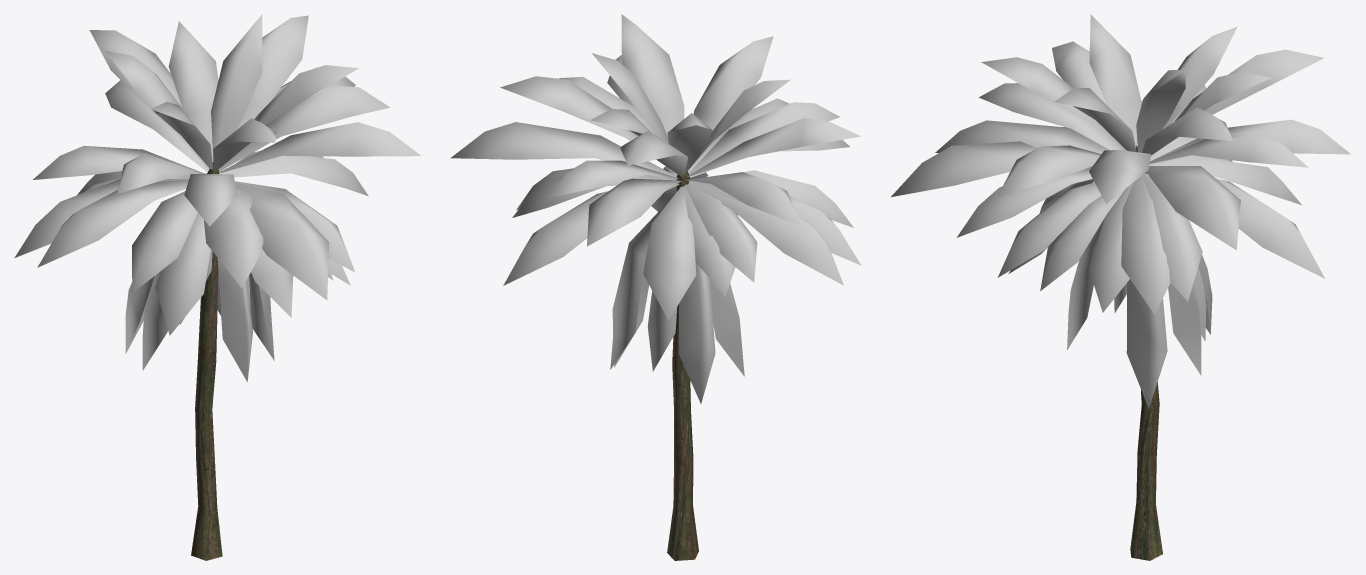
Rendered from Tree_07_1_L3.fbx.
3 renders of one model, left to right at view 1: azimuth 30°, elevation 25°; view 2: azimuth 150°, elevation 25°; view 3: azimuth 270°, elevation 25°, orthographic. The views are drawn at different scales.
Parts seen in each view (by area): view 1: polySurface20; view 2: polySurface20; view 3: polySurface20.
Boxes of the visible parts, x1=… form: polySurface20: x1=14, y1=14, x2=420, y2=560; polySurface20: x1=450, y1=14, x2=861, y2=560; polySurface20: x1=891, y1=14, x2=1350, y2=560.
Bounding box in the file's own units: 730 × 952 × 763.
